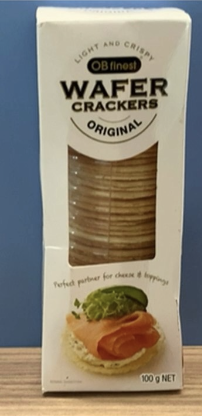crackers_150g: (49, 33, 176, 385)
